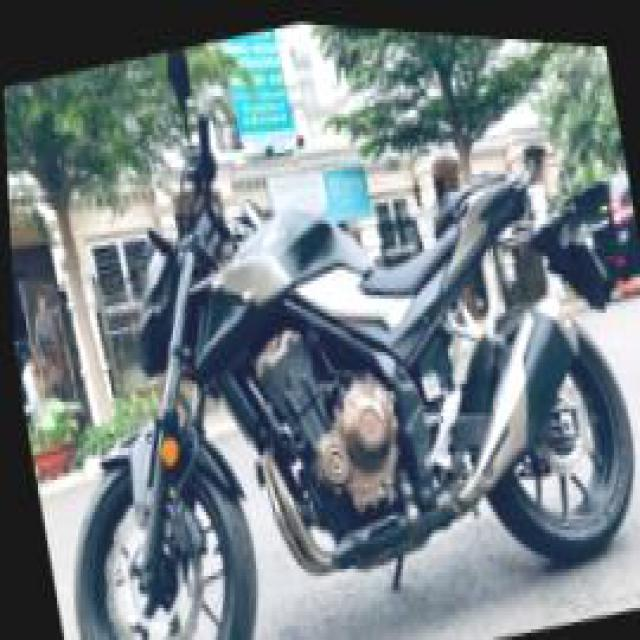CB500F: (2, 86, 638, 636)
